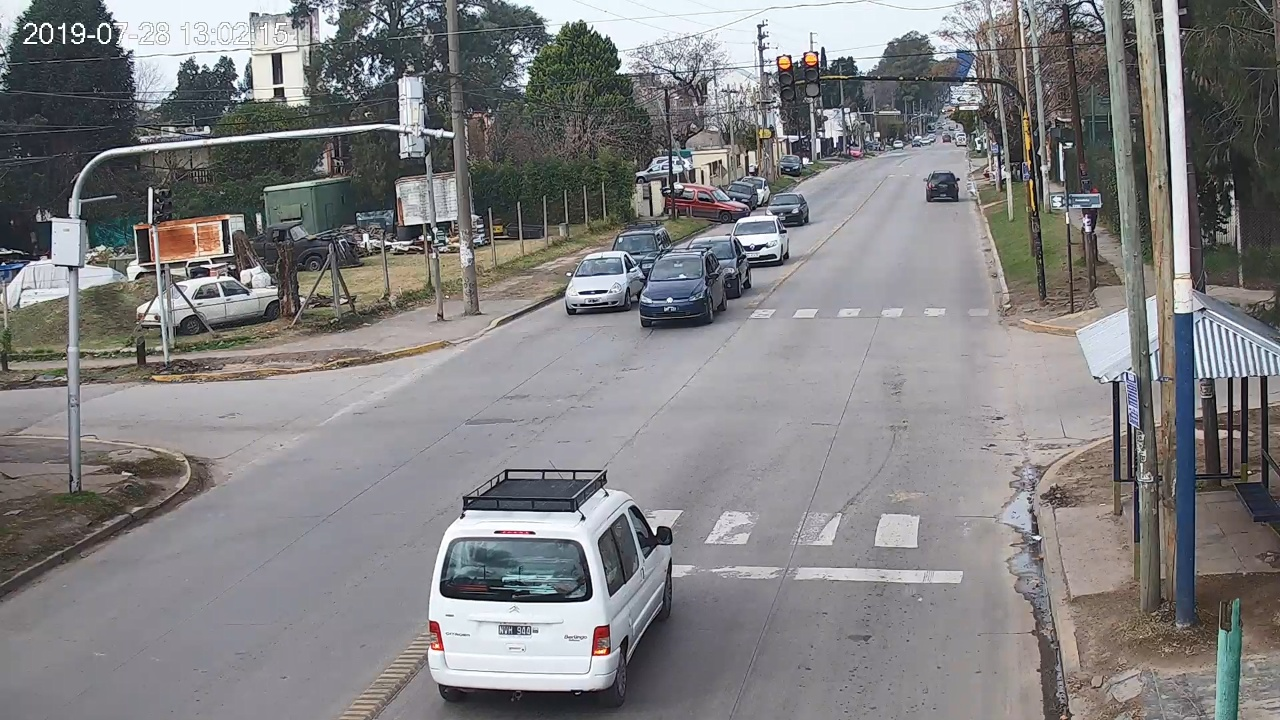car: (428, 468, 672, 706), (923, 170, 960, 202)
front car: (640, 250, 727, 325)
traffic light: (776, 54, 795, 102), (802, 51, 820, 97)
